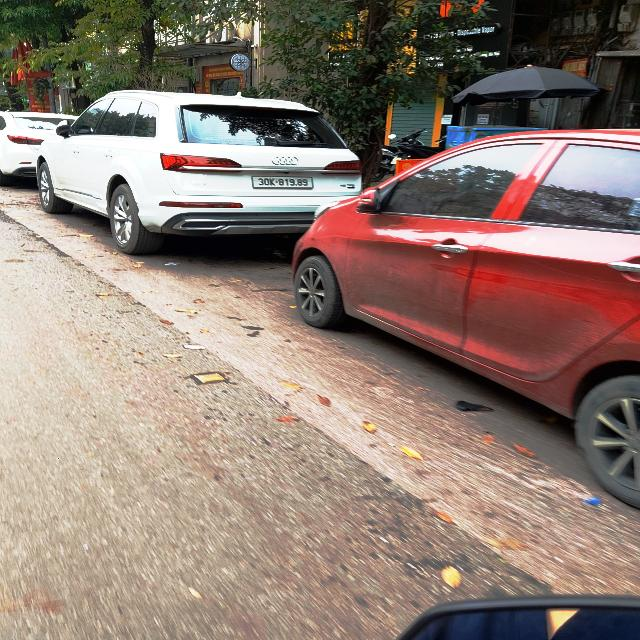license_plate: (250, 175, 317, 191)
